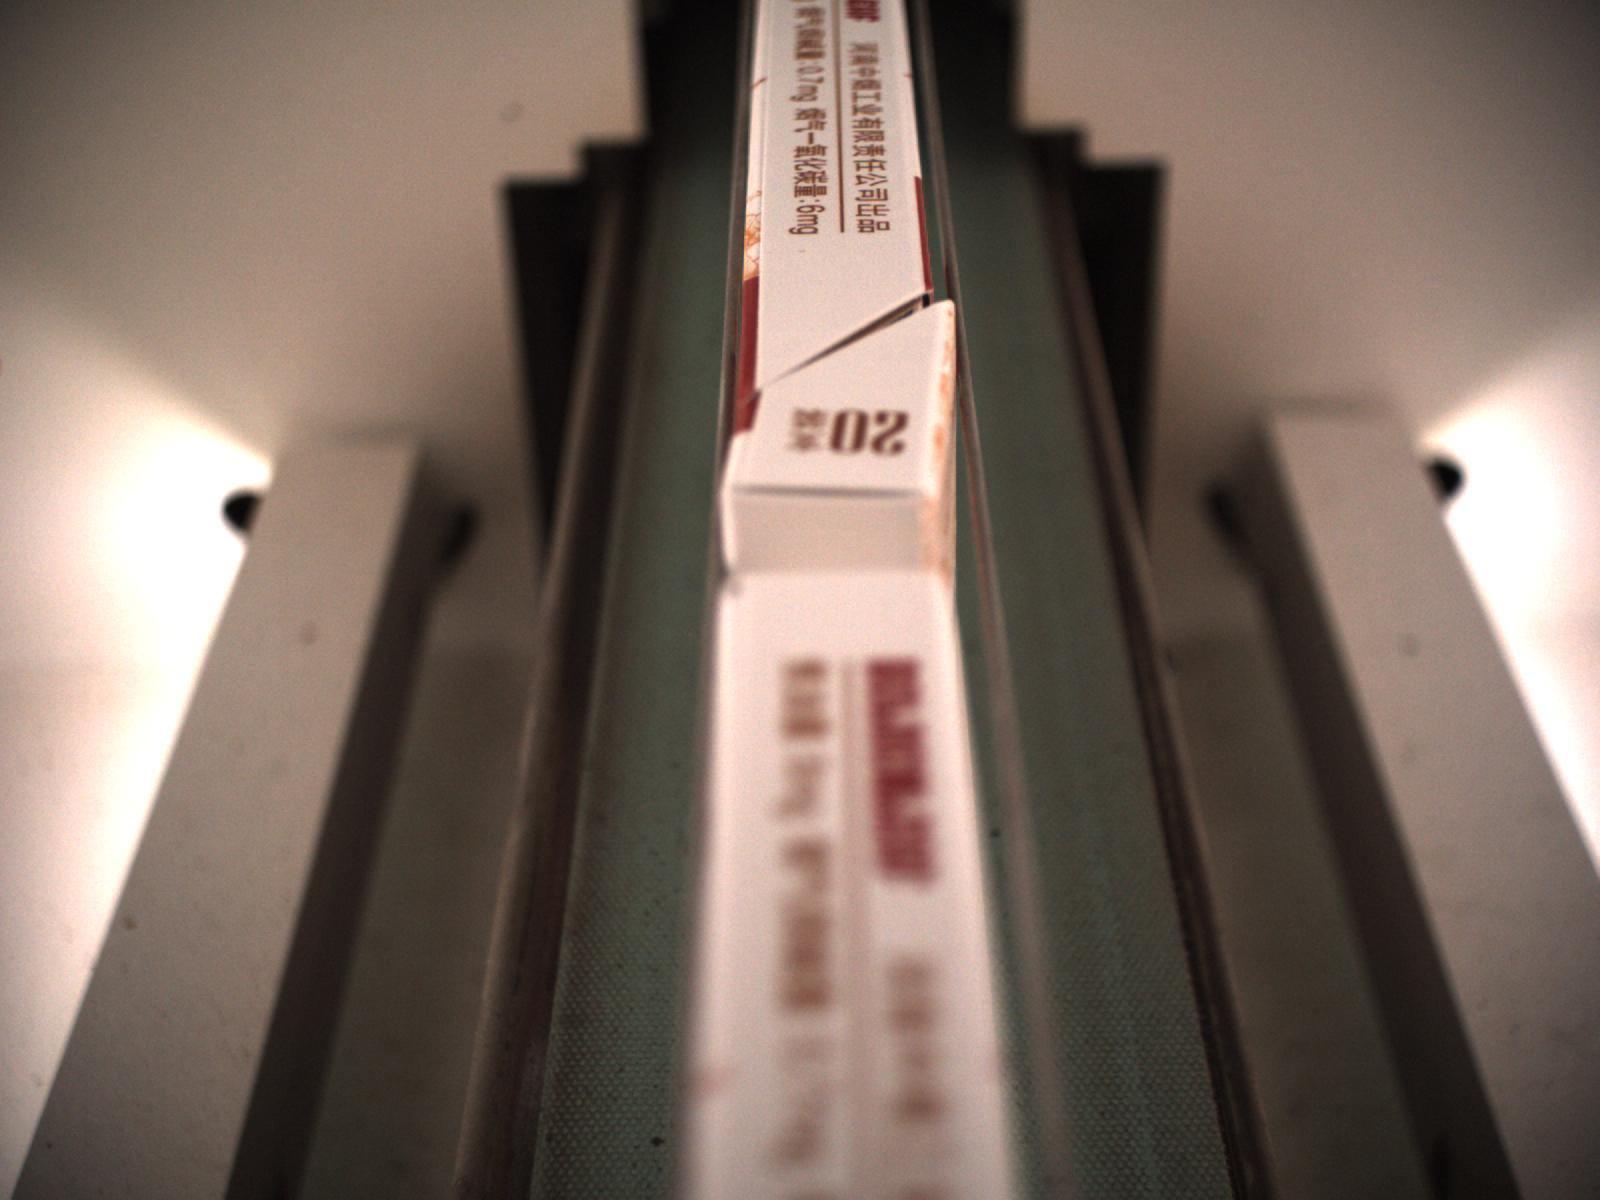headOpen_upper: (738, 287, 956, 413)
